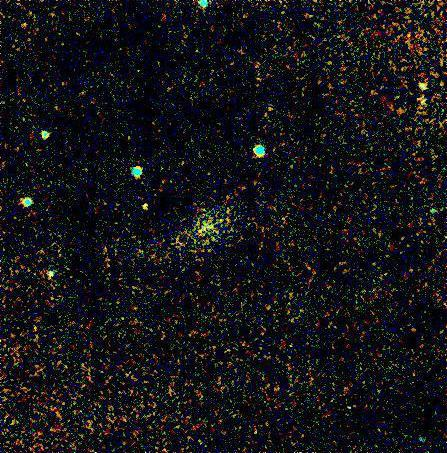star: (131, 194, 161, 224)
